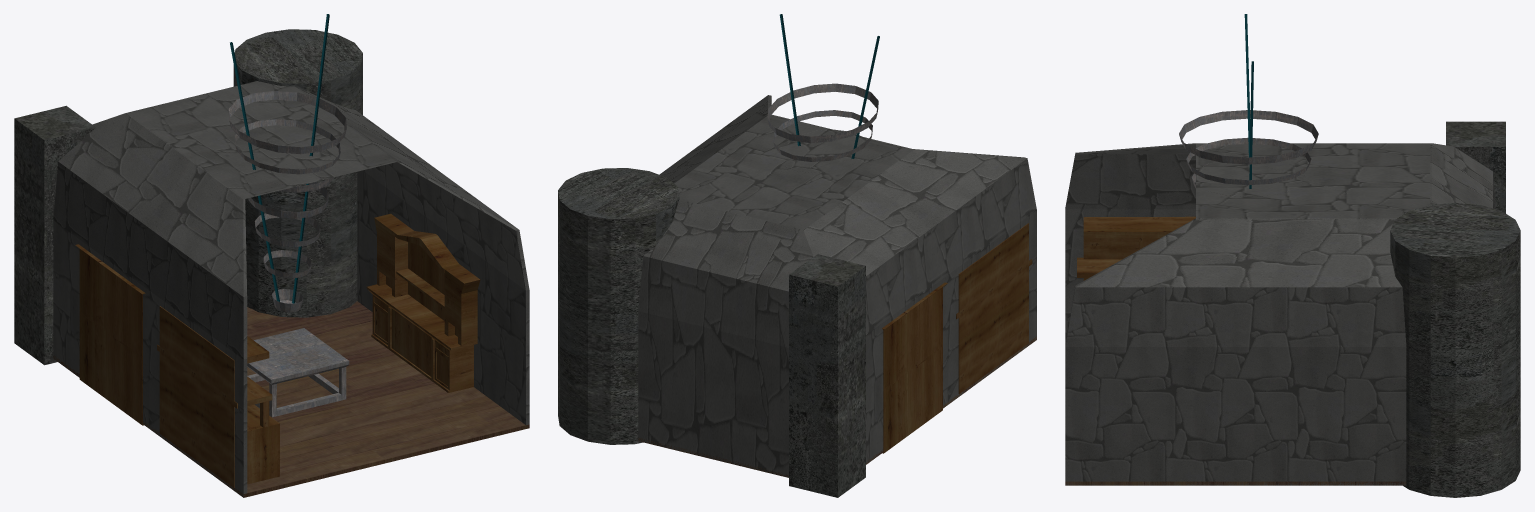
Rendered from Lab.fbx.
3 renders of one model, left to right at view 1: azimuth 30°, elevation 25°; view 2: azimuth 150°, elevation 25°; view 3: azimuth 270°, elevation 25°, orthographic. The views are drawn at different scales.
Parts seen in each view (by area): view 1: walls, Floor, Cylinder, Cabinet_1_Base, Cube.004, Cube.001, Cabinet2, Cylinder.001, Cube, Cube.005, Cube.003; view 2: walls, Cylinder, Cube.001, Cube.004, Cabinet2, Cylinder.001, Floor; view 3: walls, Cylinder, Cube.004, Cylinder.001, Cube.001, Floor.
Boxes of the visible parts, x1,y1,x2,y2 form: walls: [53, 81, 529, 497]; Floor: [53, 301, 529, 497]; Cylinder: [233, 29, 362, 317]; Cabinet_1_Base: [366, 213, 480, 392]; Cube.004: [157, 306, 279, 487]; Cube.001: [14, 105, 95, 365]; Cabinet2: [75, 244, 145, 425]; Cylinder.001: [228, 91, 346, 312]; Cube: [247, 328, 349, 417]; Cube.005: [292, 14, 329, 303]; Cube.003: [230, 42, 279, 301]; walls: [638, 95, 1036, 477]; Cylinder: [558, 168, 679, 444]; Cube.001: [789, 254, 865, 497]; Cube.004: [956, 223, 1032, 393]; Cabinet2: [882, 282, 947, 453]; Cylinder.001: [767, 83, 878, 172]; Floor: [638, 337, 1036, 477]; walls: [1065, 143, 1496, 485]; Cylinder: [1390, 203, 1520, 497]; Cube.004: [1077, 216, 1195, 280]; Cylinder.001: [1179, 110, 1318, 196]; Cube.001: [1446, 121, 1505, 213]; Floor: [1065, 344, 1406, 485].
Size of the model in its own units: 1212 by 1383 by 1518.
Materials: 59 (5 with a texture image).
